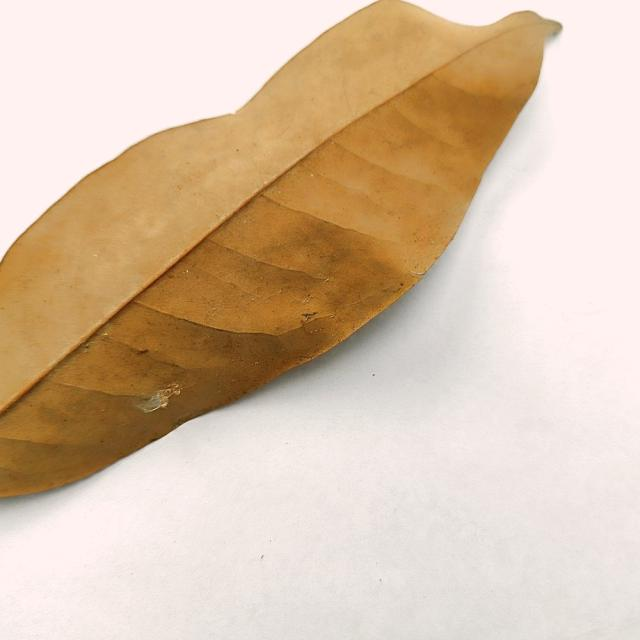Dry_Leaf-Lychee: (0, 0, 561, 504)
